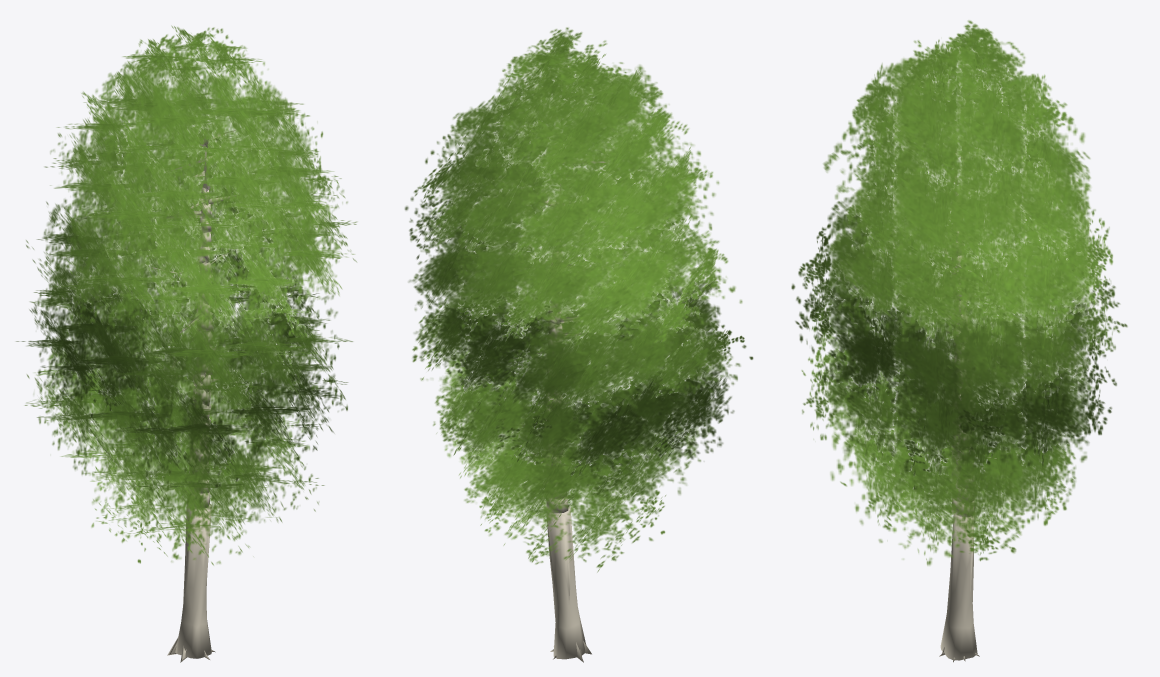
File: world_tree_birch_near.glb
3 renders of one model, left to right at view 1: azimuth 30°, elevation 25°; view 2: azimuth 150°, elevation 25°; view 3: azimuth 270°, elevation 25°, orthographic.
Parts seen in each view (by area): view 1: Canopy, Scaffold; view 2: Canopy, Scaffold; view 3: Canopy, Scaffold.
Part boxes in pixels (x1,y1,x2,y2): Canopy: [16, 25, 356, 565]; Scaffold: [149, 130, 236, 662]; Canopy: [404, 27, 753, 572]; Scaffold: [521, 161, 617, 662]; Canopy: [791, 20, 1127, 565]; Scaffold: [939, 152, 996, 662].
Bounding box in the file's own units: 5.35 × 9.5 × 5.05.
2 materials, 1 textured.
